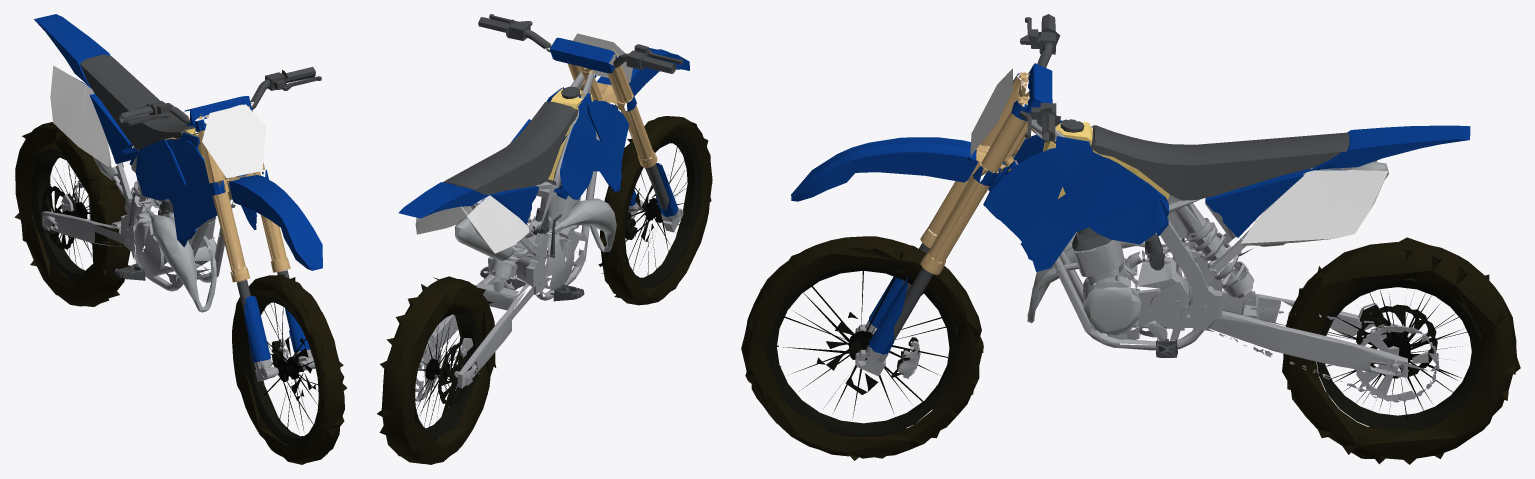
Rendered from dirt_bike.glb.
3 views of the same model, side by side, from view 1: azimuth 30°, elevation 25°; view 2: azimuth 150°, elevation 25°; view 3: azimuth 270°, elevation 25° (orthographic). The views are drawn at different scales.
Visible parts, largest first — view 1: body, wheel_r, wheel_f; view 2: body, wheel_r, wheel_f; view 3: body, wheel_r, wheel_f.
Boxes of the visible parts, x1,y1,x2,y2 form: body: (34, 14, 322, 381); wheel_r: (14, 122, 130, 306); wheel_f: (232, 274, 346, 464); body: (398, 14, 689, 401); wheel_r: (377, 276, 496, 464); wheel_f: (598, 116, 712, 305); body: (791, 14, 1470, 402); wheel_r: (1282, 237, 1520, 464); wheel_f: (741, 236, 983, 460).
Bounding box in the file's own units: 0.7881 × 1.24 × 2.22.
